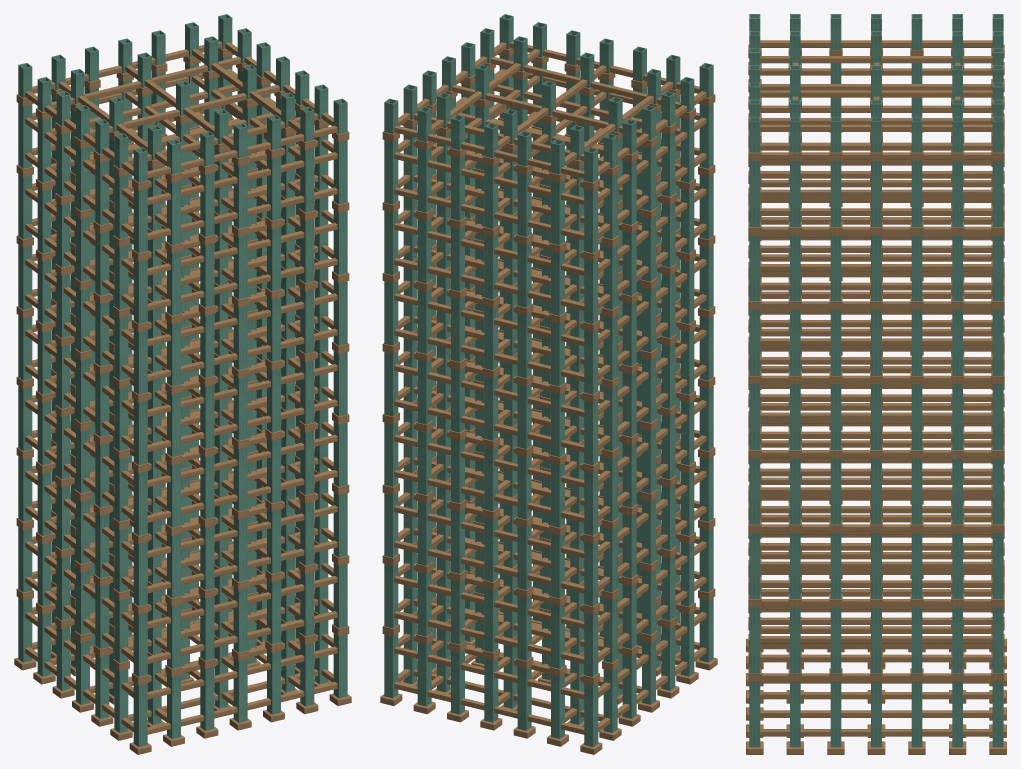
The picture shows the model from 3 angles, left to right: view 1: azimuth 30°, elevation 25°; view 2: azimuth 150°, elevation 25°; view 3: azimuth 270°, elevation 25°; orthographic projection. The views are drawn at different scales.
Visible parts, largest first — view 1: Tier 8 internal tie 0-0.56-0-0.25, Tier 4 tie 0-0-0.75, Tier 6 tie 0-0-0.25, Tier 6 tie 0-0-0.75, Tier 8 internal tie 0-0-0-0.25, Tier 0 tie 0-0-0.75, Tier 2 tie 0-0-0.75, Tier 4 tie 0-0-0.25, Tier 0 tie 0-0-0.25, Tier 1 tie 0-0-0.75, Tier 3 tie 0-0-0.25, Tier 5 tie 0-0-0.25 (+176 smaller); view 2: Tier 8 internal tie 0--0.56-0-0.25, Tier 4 tie 2-0-0.75, Tier 6 tie 2-0-0.25, Tier 6 tie 2-0-0.75, Tier 8 internal tie 0-0-0-0.25, Tier 0 tie 2-0-0.75, Tier 2 tie 2-0-0.75, Tier 4 tie 2-0-0.25, Tier 0 tie 2-0-0.25, Tier 1 tie 2-0-0.75, Tier 3 tie 2-0-0.25, Tier 5 tie 2-0-0.25 (+176 smaller); view 3: Tier 1 tie 1-0-0.25, Tier 3 tie 1-0-0.75, Tier 4 internal tie 1-0.56-0-0.25, Tier 6 tie 1-0-0.25, Tier 8 internal tie 1-0-0-0.25, Tier 8 internal tie 1--0.56-0-0.25, Tier 4 tie 3-0-0.25, Tier 1 tie 3-0-0.75, Tier 6 internal tie 1-0.56-0-0.75, Tier 0 internal tie 1-0.56-0-0.25, Tier 0 tie 1-0-0.25, Tier 1 internal tie 1-0.56-0-0.25 (+129 smaller).
Boxes of the visible parts, <box> form: Tier 8 internal tie 0-0.56-0-0.25: <box>51,56,241,108</box>; Tier 4 tie 0-0-0.75: <box>147,364,337,416</box>; Tier 6 tie 0-0-0.25: <box>147,258,337,310</box>; Tier 6 tie 0-0-0.75: <box>147,222,337,275</box>; Tier 8 internal tie 0-0-0-0.25: <box>90,85,279,136</box>; Tier 0 tie 0-0-0.75: <box>147,646,337,699</box>; Tier 2 tie 0-0-0.75: <box>147,505,337,557</box>; Tier 4 tie 0-0-0.25: <box>147,399,337,452</box>; Tier 0 tie 0-0-0.25: <box>147,682,337,734</box>; Tier 1 tie 0-0-0.75: <box>147,576,337,628</box>; Tier 3 tie 0-0-0.25: <box>147,470,337,522</box>; Tier 5 tie 0-0-0.25: <box>147,328,337,381</box>; Tier 8 internal tie 0--0.56-0-0.25: <box>490,56,680,108</box>; Tier 4 tie 2-0-0.75: <box>394,364,584,416</box>; Tier 6 tie 2-0-0.25: <box>394,258,584,310</box>; Tier 6 tie 2-0-0.75: <box>394,222,584,275</box>; Tier 8 internal tie 0-0-0-0.25: <box>452,85,641,136</box>; Tier 0 tie 2-0-0.75: <box>394,646,584,699</box>; Tier 2 tie 2-0-0.75: <box>394,505,584,557</box>; Tier 4 tie 2-0-0.25: <box>394,399,584,452</box>; Tier 0 tie 2-0-0.25: <box>394,682,584,734</box>; Tier 1 tie 2-0-0.75: <box>394,576,584,628</box>; Tier 3 tie 2-0-0.25: <box>394,470,584,522</box>; Tier 5 tie 2-0-0.25: <box>394,328,584,381</box>; Tier 1 tie 1-0-0.25: <box>760,654,992,662</box>; Tier 3 tie 1-0-0.75: <box>760,468,992,476</box>; Tier 4 internal tie 1-0.56-0-0.25: <box>760,412,992,420</box>; Tier 6 tie 1-0-0.25: <box>760,282,992,290</box>; Tier 8 internal tie 1-0-0-0.25: <box>760,90,992,97</box>; Tier 8 internal tie 1--0.56-0-0.25: <box>760,56,992,63</box>; Tier 4 tie 3-0-0.25: <box>760,328,992,336</box>; Tier 1 tie 3-0-0.75: <box>761,514,991,522</box>; Tier 6 internal tie 1-0.56-0-0.75: <box>761,226,991,234</box>; Tier 0 internal tie 1-0.56-0-0.25: <box>760,710,992,717</box>; Tier 0 tie 1-0-0.25: <box>760,729,992,736</box>; Tier 1 internal tie 1-0.56-0-0.25: <box>760,636,992,643</box>.
Bounding box in the file's own units: 1.8 × 4.82 × 1.8.
2 materials, 2 textured.
